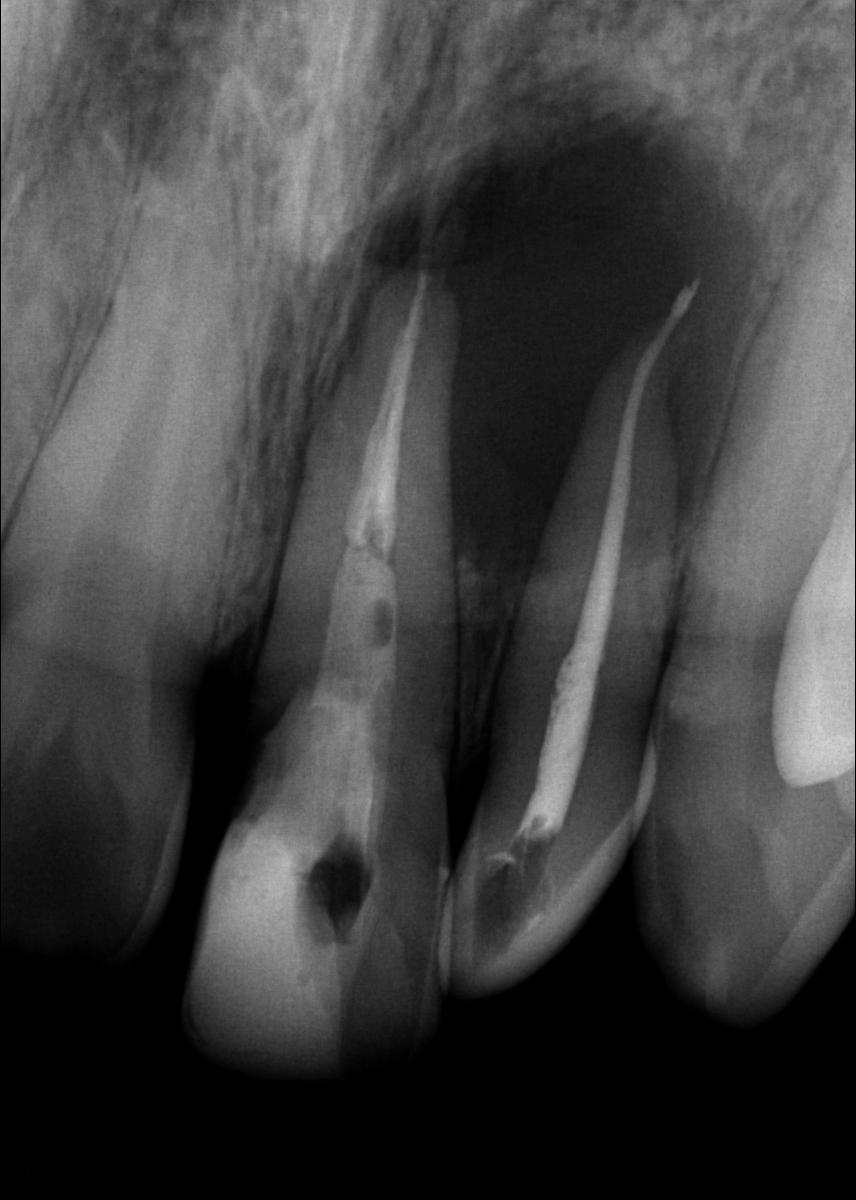Furcation Involvement: (362, 54, 777, 583)
